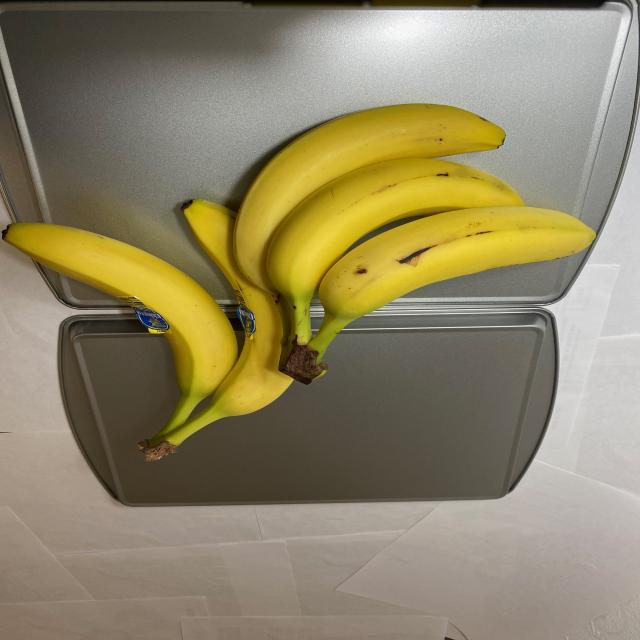Banana: (5, 101, 596, 463)
